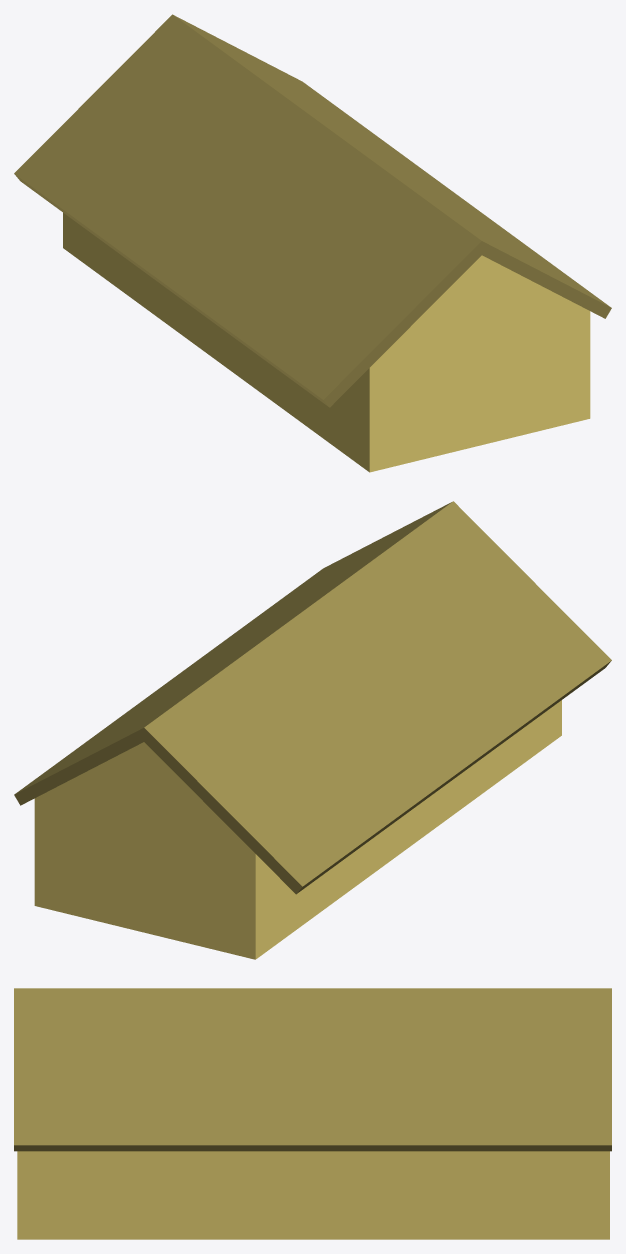
Rendered from result.glb.
3 views of the same model, one above another, from view 1: azimuth 30°, elevation 25°; view 2: azimuth 150°, elevation 25°; view 3: azimuth 270°, elevation 25° (orthographic). The views are drawn at different scales.
Parts seen in each view (by area): view 1: b215fea8-c165-4c64-a0fb-365627f5da72__undefined (×2), 33a72f7b-3752-424c-a40f-2f97b4de94fb__undefined; view 2: b215fea8-c165-4c64-a0fb-365627f5da72__undefined (×2), 33a72f7b-3752-424c-a40f-2f97b4de94fb__undefined; view 3: b215fea8-c165-4c64-a0fb-365627f5da72__undefined, 33a72f7b-3752-424c-a40f-2f97b4de94fb__undefined.
Boxes of the visible parts, x1,y1,x2,y2 form: b215fea8-c165-4c64-a0fb-365627f5da72__undefined (×2): [14, 14, 611, 407]; 33a72f7b-3752-424c-a40f-2f97b4de94fb__undefined: [63, 213, 590, 472]; b215fea8-c165-4c64-a0fb-365627f5da72__undefined (×2): [14, 501, 611, 894]; 33a72f7b-3752-424c-a40f-2f97b4de94fb__undefined: [34, 700, 561, 959]; b215fea8-c165-4c64-a0fb-365627f5da72__undefined: [14, 988, 611, 1151]; 33a72f7b-3752-424c-a40f-2f97b4de94fb__undefined: [17, 1151, 609, 1239].
Bounding box in the file's own units: 652 × 445 × 1211.
